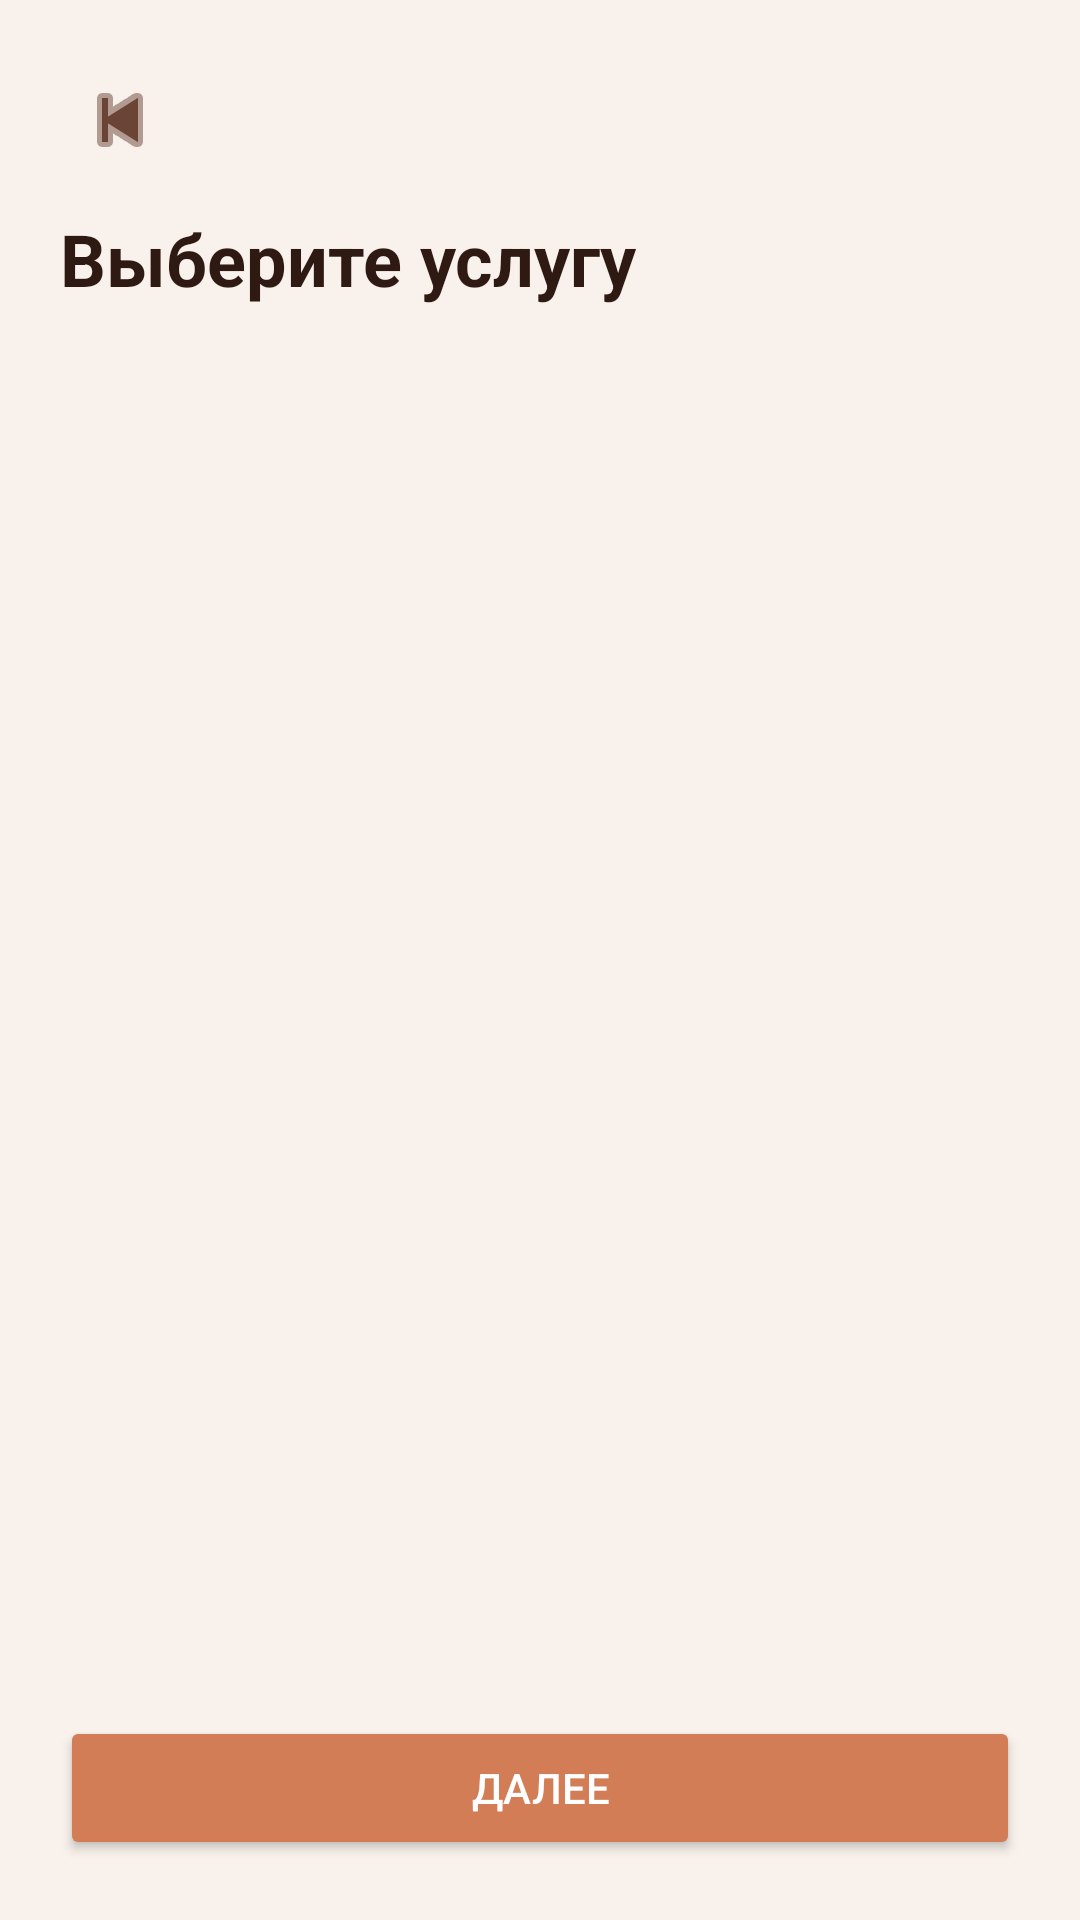

Icon bounding boxes for this 1080px×1920px phone screenshot, format box(x1, y1, x2, y2):
Назад: box(97, 93, 143, 147)
